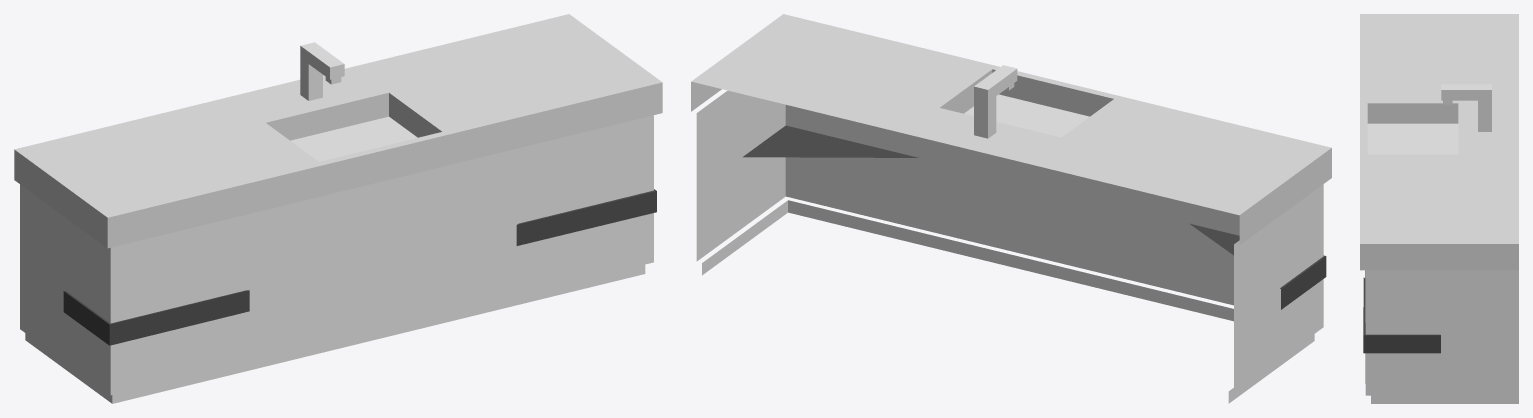
The model's file is table_a.fbx.
3 renders of one model, left to right at view 1: azimuth 30°, elevation 25°; view 2: azimuth 150°, elevation 25°; view 3: azimuth 270°, elevation 25°, orthographic. The views are drawn at different scales.
Parts seen in each view (by area): view 1: table_a; view 2: table_a; view 3: table_a.
Boxes of the visible parts, x1=… form: table_a: x1=14, y1=14, x2=662, y2=403; table_a: x1=691, y1=14, x2=1331, y2=403; table_a: x1=1360, y1=14, x2=1518, y2=403.
Size of the model in its own units: 3 by 1.25 by 0.875.
